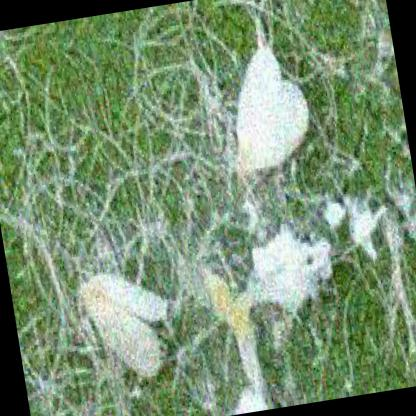whitefly: (77, 274, 170, 378), (235, 44, 310, 171)
